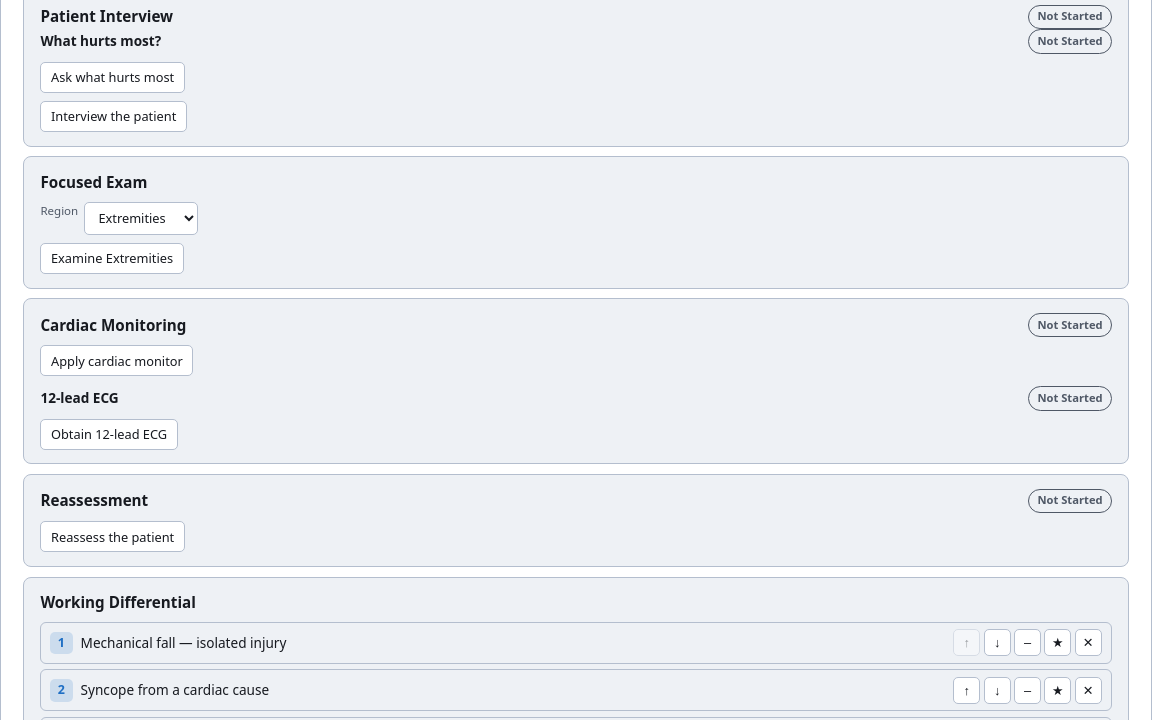
Test: ClinicalPanel — equipment gating (§19) › can apply the monitor once it is on scene, and reveals the rhythm
The width and height of the screenshot is (1152, 720).
(page scrolled)
Click the button "Apply cardiac monitor": (117, 361) [40,345,193,376]
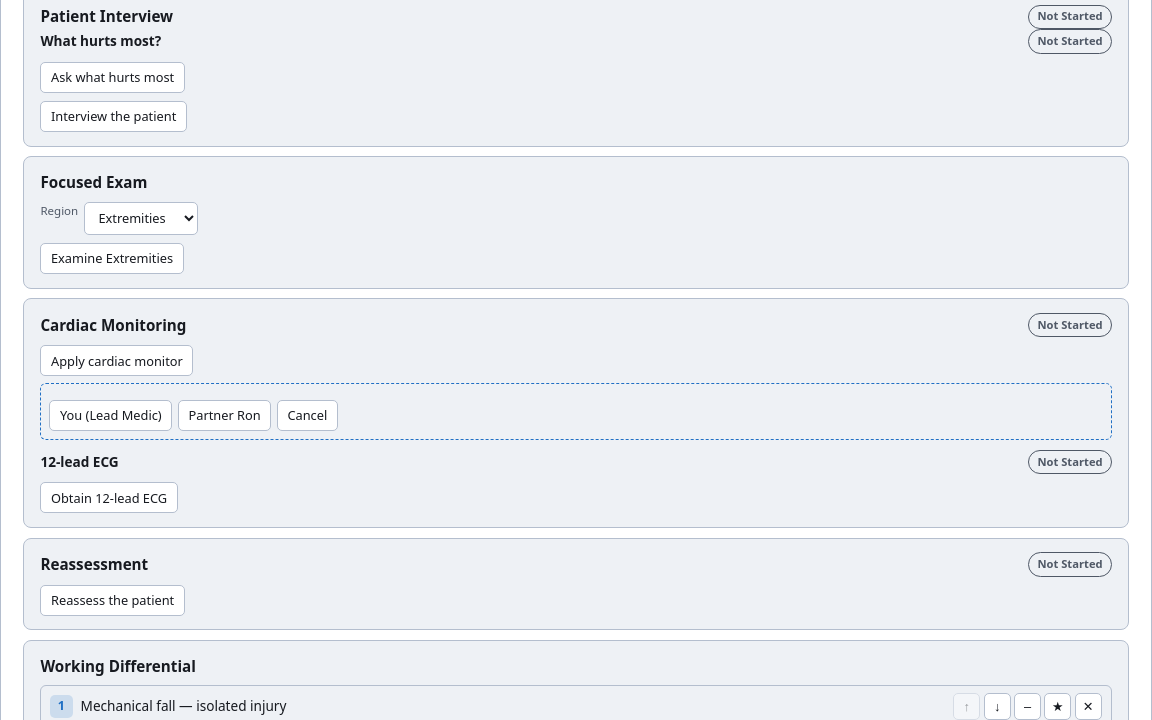
Click the button "Partner Ron": (225, 416) [178,400,271,431]
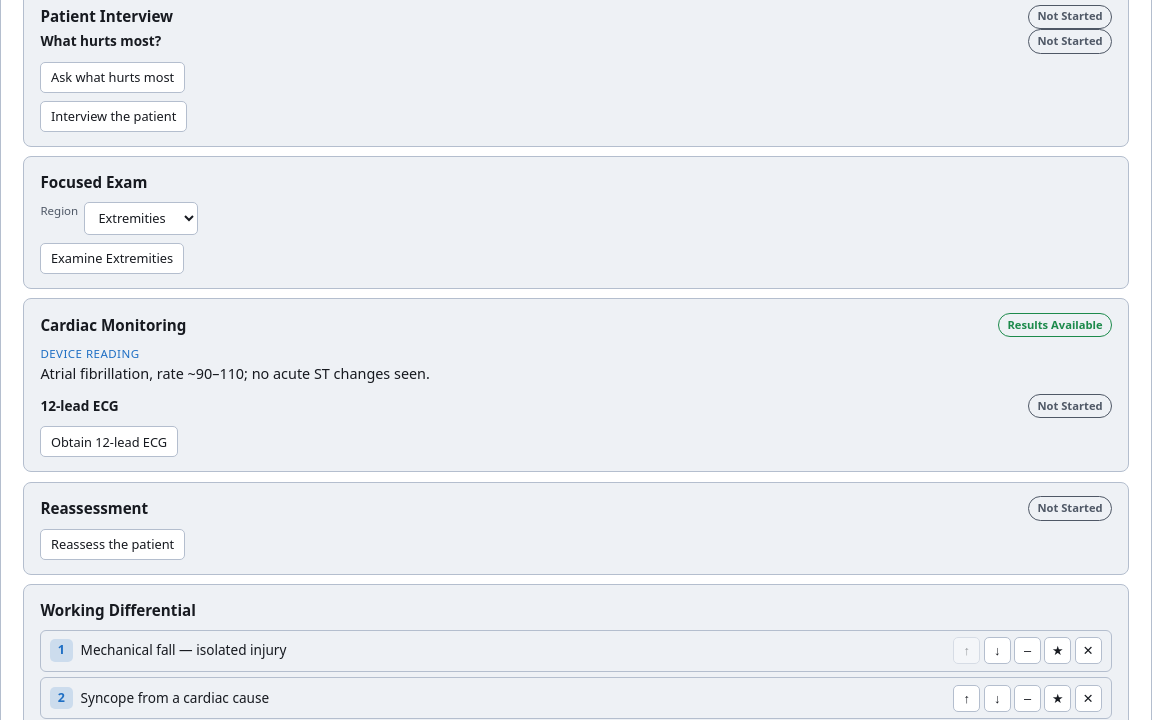
Expected: the text "Atrial fibrillation" is shown, [40,364,430,382]
